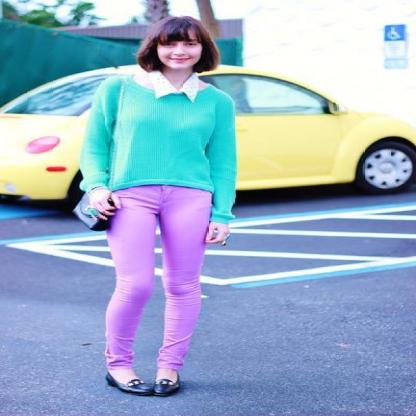bag: (74, 192, 111, 230)
jacket: (79, 75, 236, 224)
pants: (87, 185, 216, 369)
shoe: (105, 374, 182, 396)
